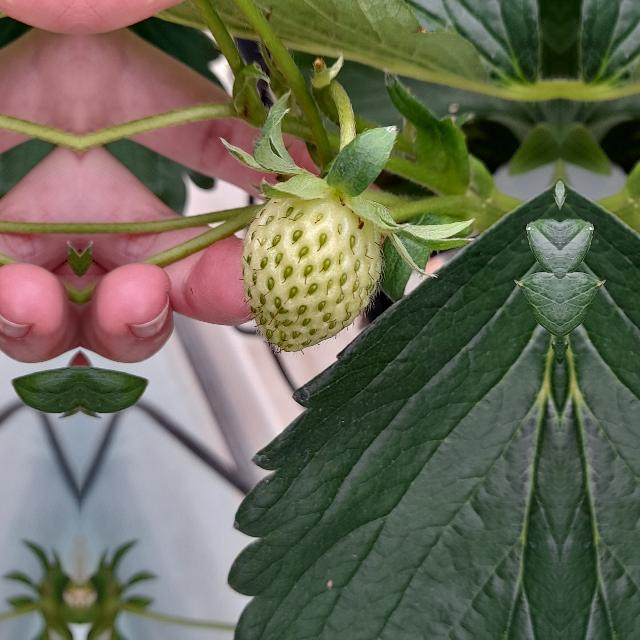Health_25: (241, 197, 381, 351)
